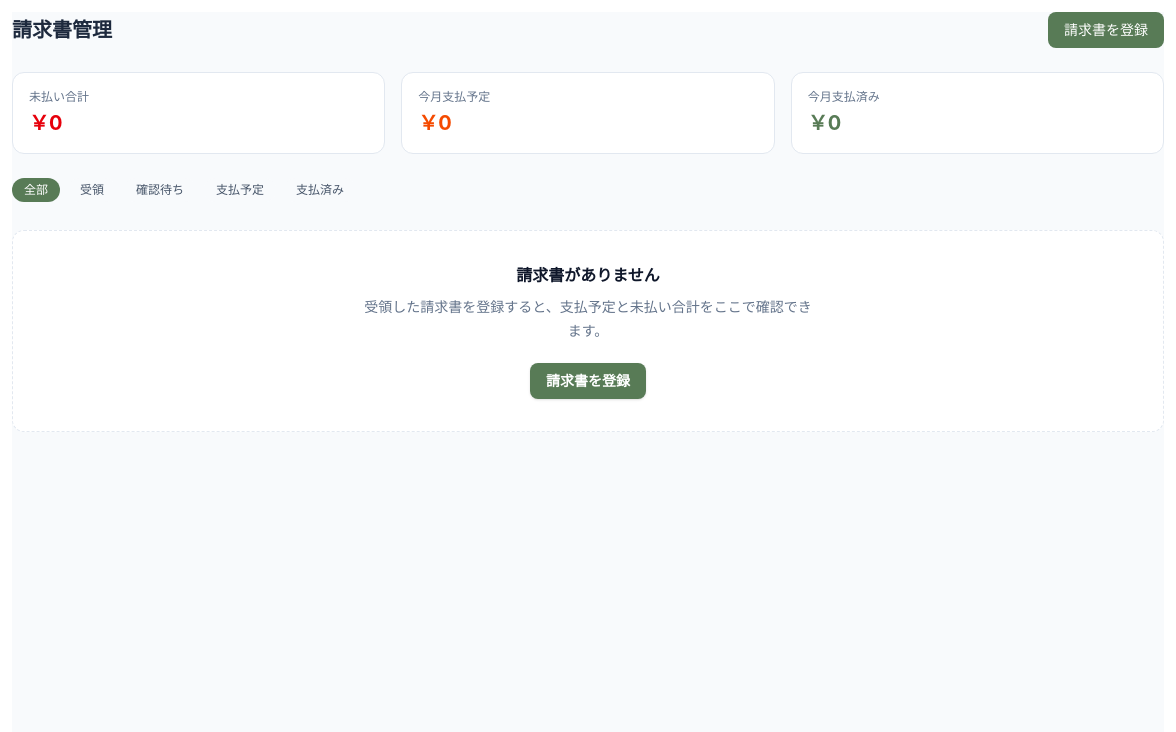
Scenario: InvoiceManagementPage › 請求書なしの空状態から登録フォームを開ける
This screenshot has width=1176, height=732.
Expected: the heading "請求書がありません" is shown, [516, 265, 660, 285]
What coordinates should you click on to do the following:
click the button "請求書を登録" in the row of "請求書管理"
I would click on:
 (1106, 30)
Its box is [1048, 12, 1164, 48].
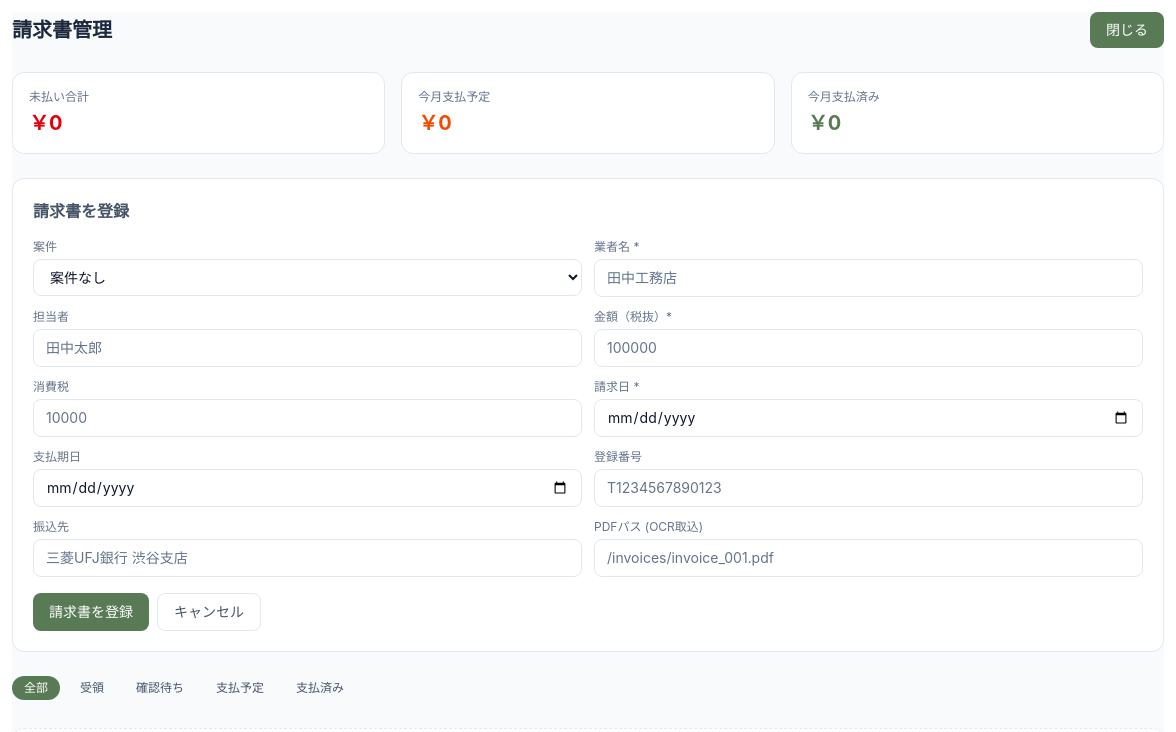
Expected: the heading "請求書を登録" is shown, [33, 201, 129, 221]
